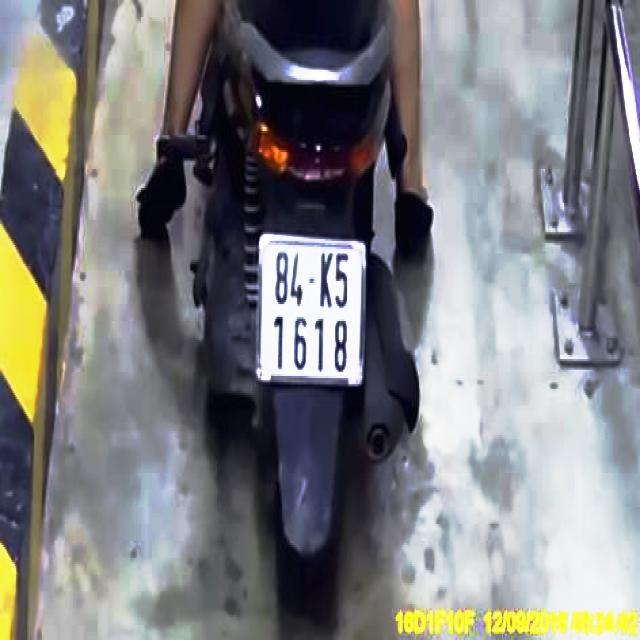license_plate: (259, 238, 365, 383)
